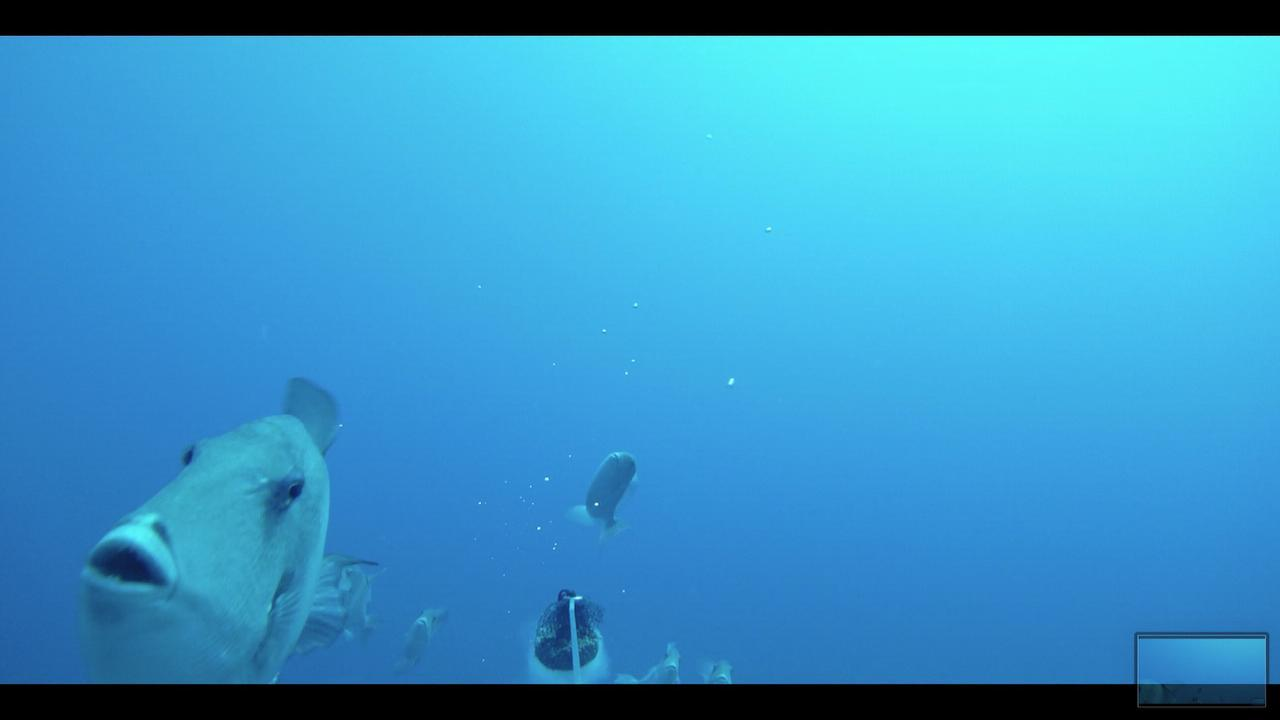balistes: (74, 368, 387, 680), (570, 441, 647, 535)
